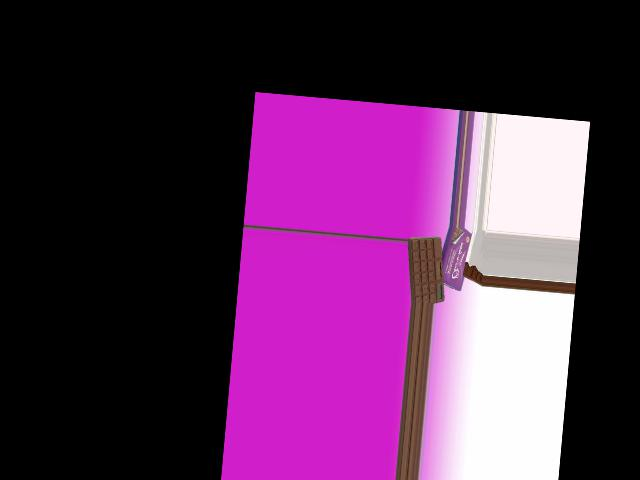chocolate: (402, 235, 450, 302)
